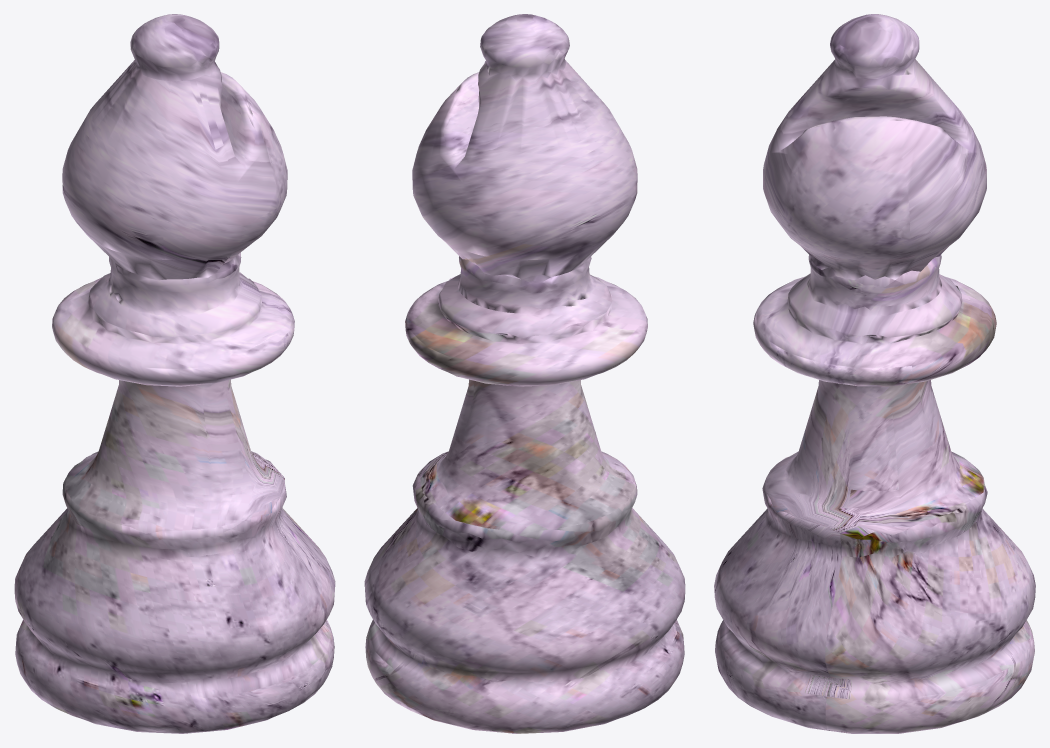
File: white_bishop.glb
3 renders of one model, left to right at view 1: azimuth 30°, elevation 25°; view 2: azimuth 150°, elevation 25°; view 3: azimuth 270°, elevation 25°, orthographic.
Parts seen in each view (by area): view 1: Circle.023; view 2: Circle.023; view 3: Circle.023.
Boxes of the visible parts, <box> form: Circle.023: <box>14,14,335,733</box>; Circle.023: <box>364,14,685,733</box>; Circle.023: <box>714,14,1035,733</box>.
Bounding box in the file's own units: 1.25 × 2.83 × 1.25.
1 material, 1 textured.
